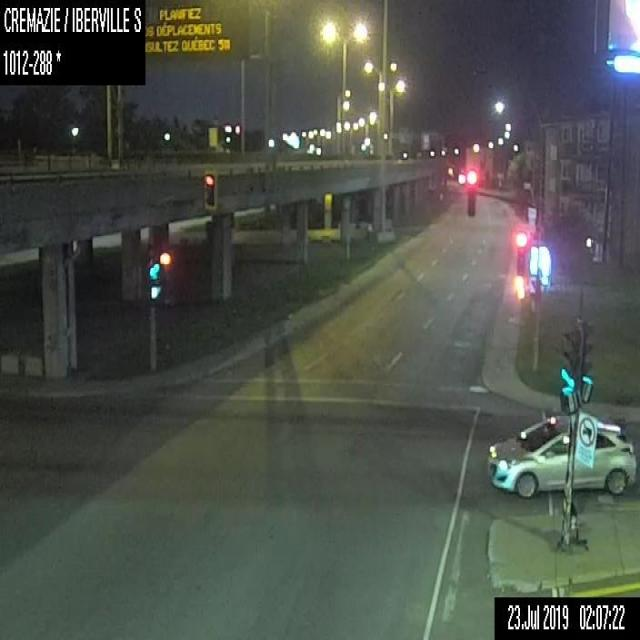vehicle: (484, 411, 634, 497)
